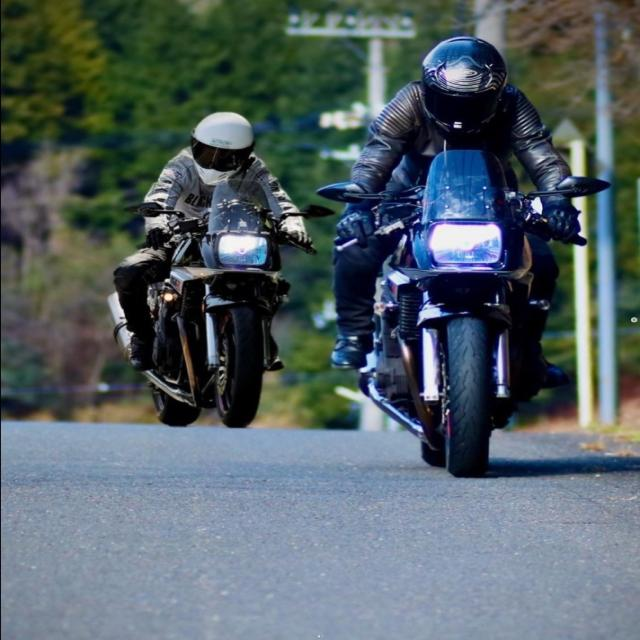helmet: (416, 34, 512, 134), (186, 109, 258, 187)
